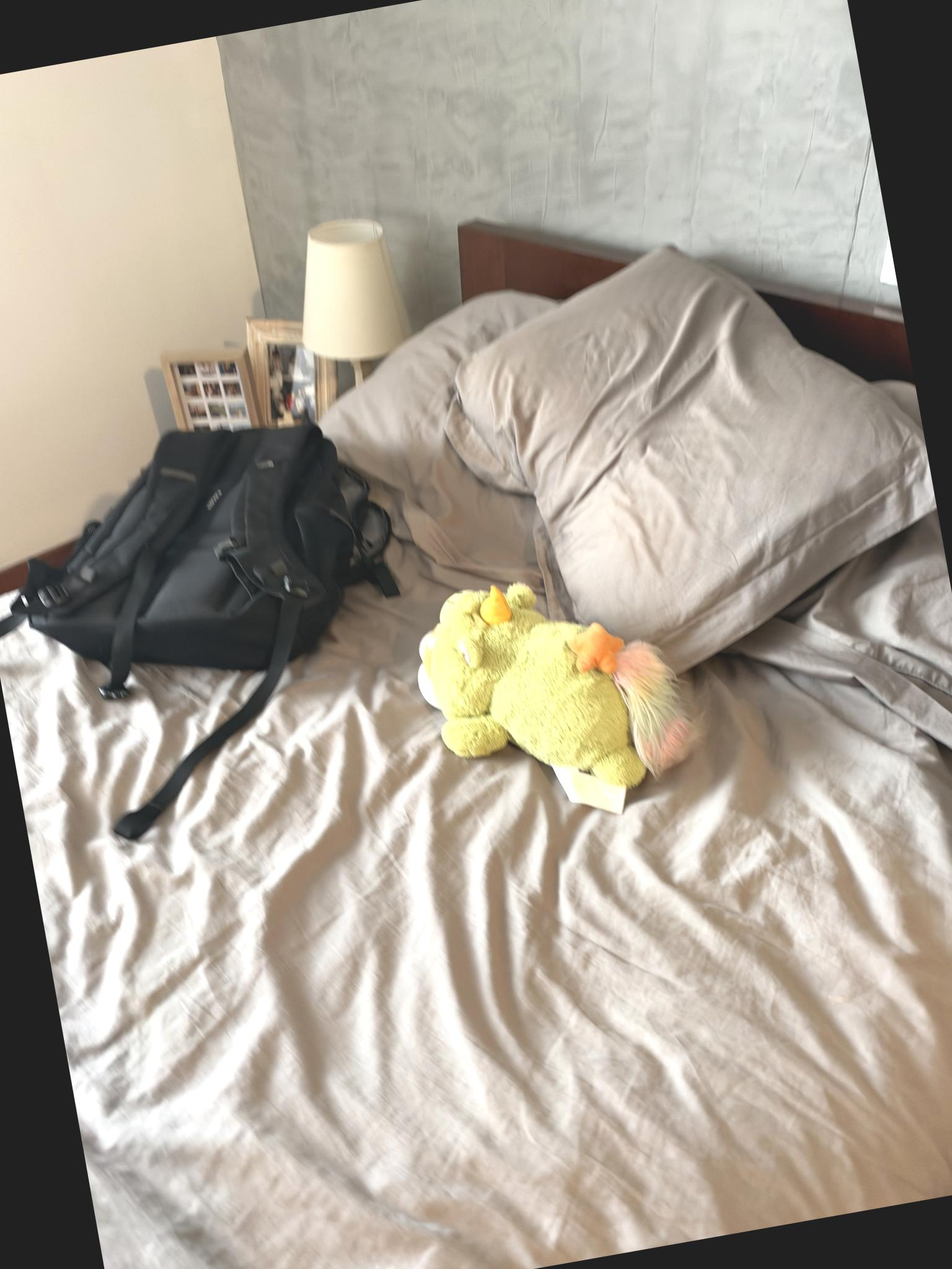peluche_martin: (403, 550, 722, 847)
